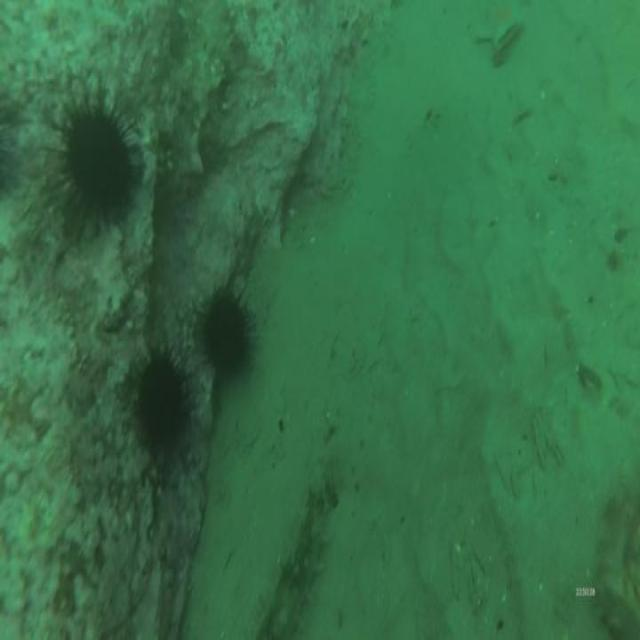echinus: (36, 79, 144, 239), (130, 340, 196, 471), (194, 281, 260, 387), (0, 75, 28, 205)
holothurian: (243, 523, 328, 640), (590, 488, 640, 640)
starfish: (471, 0, 525, 62)
